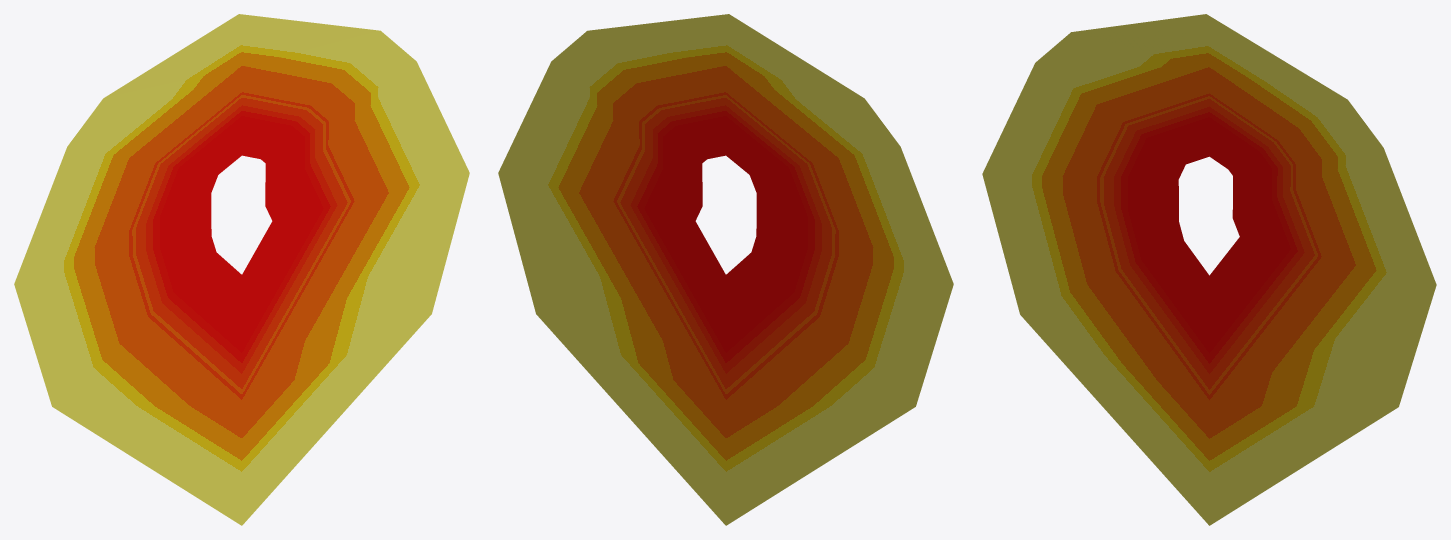
Rendered from old_koopa_agb-mkd_ef_bubble.glb.
The picture shows the model from 3 angles, left to right: view 1: azimuth 30°, elevation 25°; view 2: azimuth 150°, elevation 25°; view 3: azimuth 330°, elevation 25°; orthographic projection.
Visible parts, largest first — view 1: mkd_ef_bubble; view 2: mkd_ef_bubble; view 3: mkd_ef_bubble.
Part boxes in pixels (x1,y1,x2,y2): mkd_ef_bubble: (14,14,469,525); mkd_ef_bubble: (498,14,953,525); mkd_ef_bubble: (982,14,1436,525).
Size of the model in its own units: 1.83 by 1.97 by 0.000244.
Materials: 1 (1 with a texture image).
